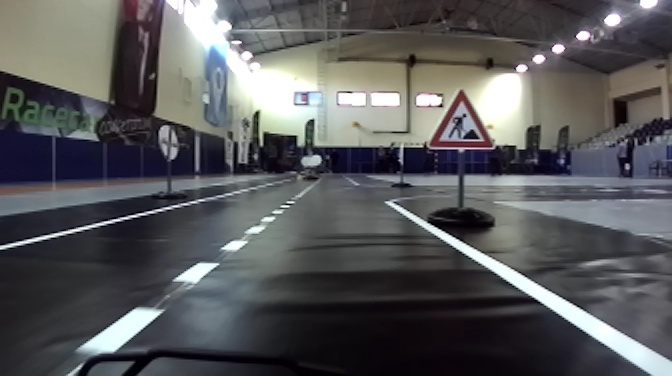yol_yapimi: (422, 85, 495, 150)
